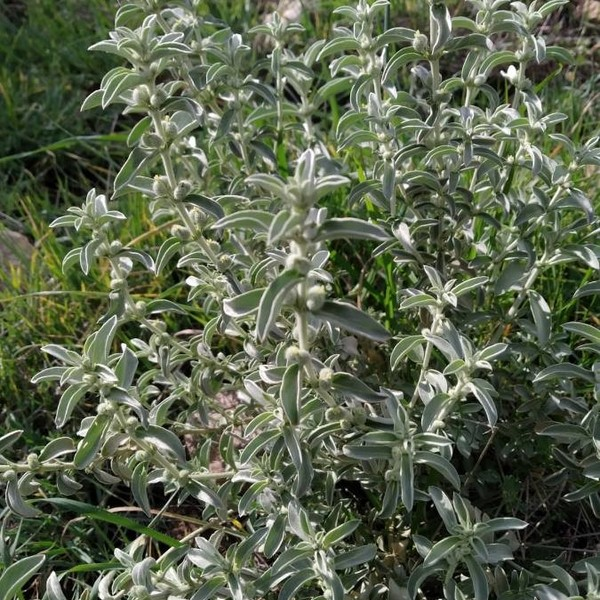obstacle: (74, 20, 519, 553)
